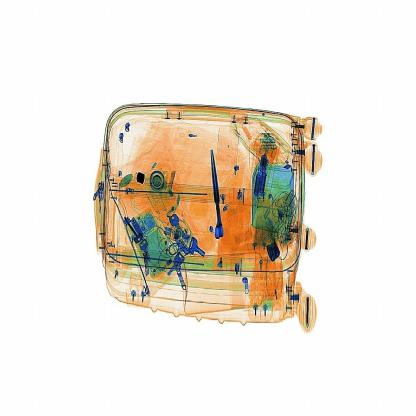gun: (205, 136, 226, 257)
